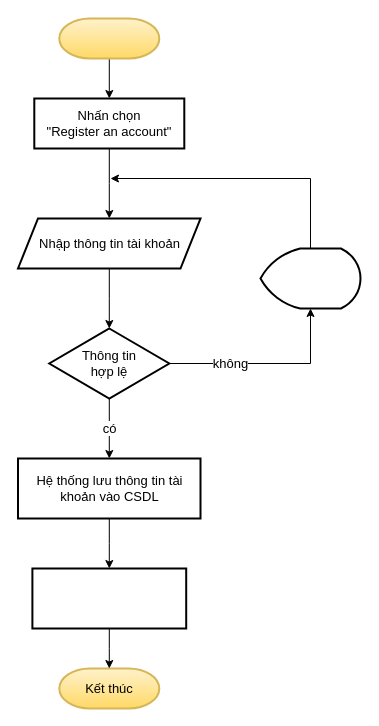
Some shapes in this 379 by 726 pixel diagram are drawn without their labels. The shapes that lost their labels are listed below. From the top down, each one's box as (x1, y1, x2, y2) in pixels, then its label:
(58, 17, 160, 59): Bắt đầu
(259, 247, 361, 309): Thông báo lỗi
(31, 567, 187, 629): Điều hướng đến trang đăng nhập
